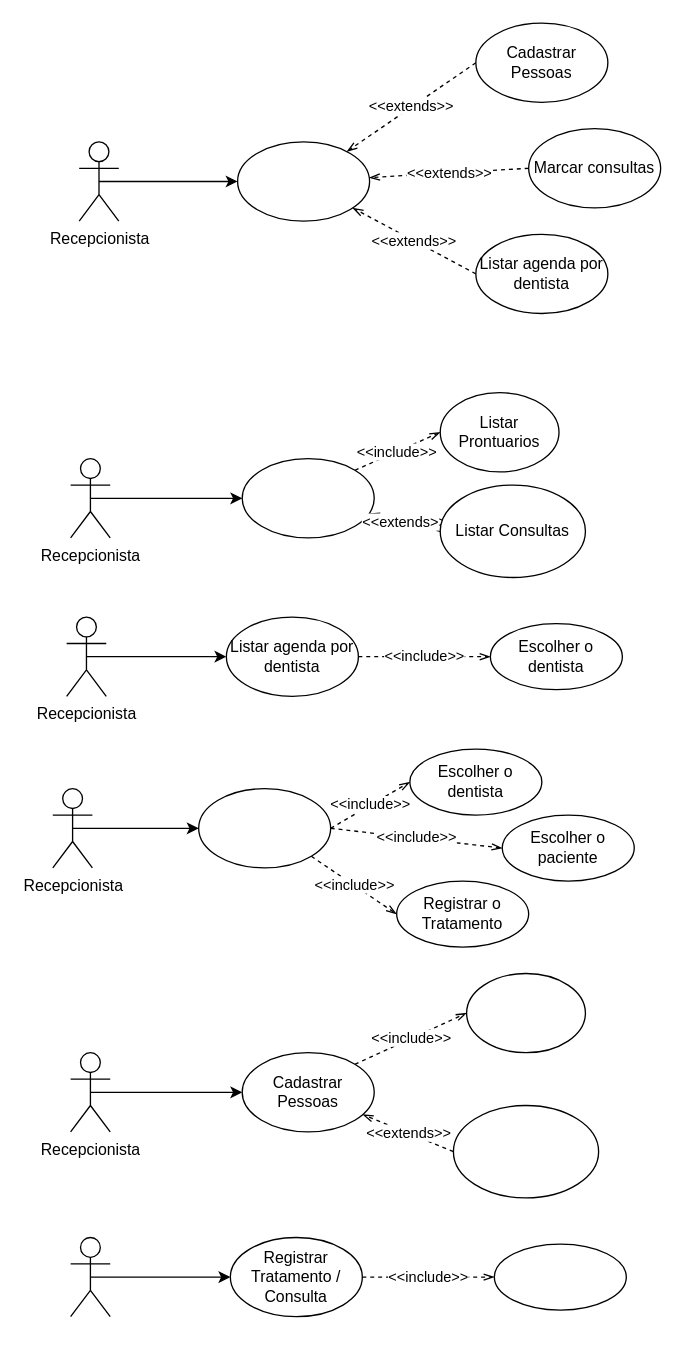
Some shapes in this 684 by 1368 pixel diagram are drawn without their labels. Here are the shapes that lost their labels. From the top down, the centre of each, then its label:
At point 303,181: "Abrir tela inicial com menu de opções".
At point 307,497: "Listar Pacientes".
At point 264,827: "Marcar consulta".
At point 525,1012: "Escolher tipo (Paciente ou Funcionário)".
At point 525,1151: "Registrar algum tratamento no prontuário".
At point 89,1276: "Dentistas".
At point 559,1276: "Cadastrar Prontuário".
